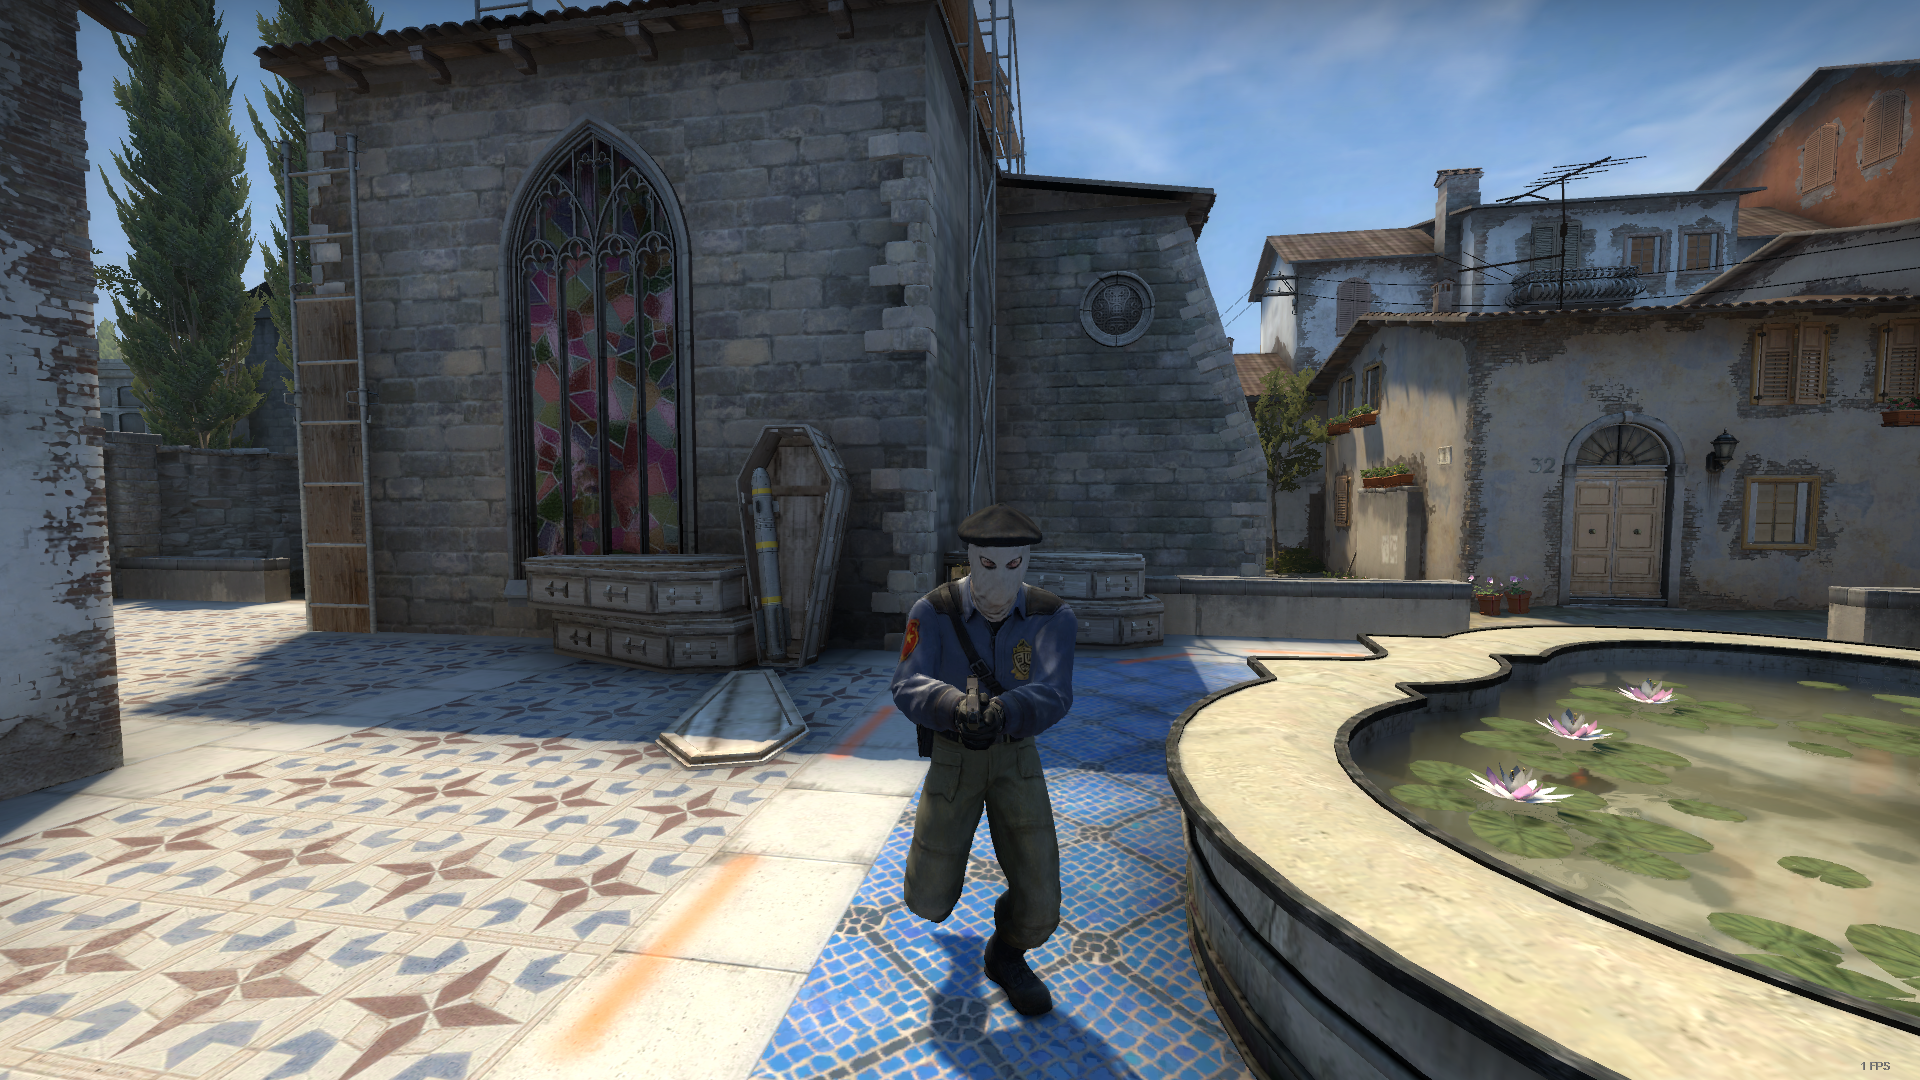t: (845, 479, 1135, 1036)
